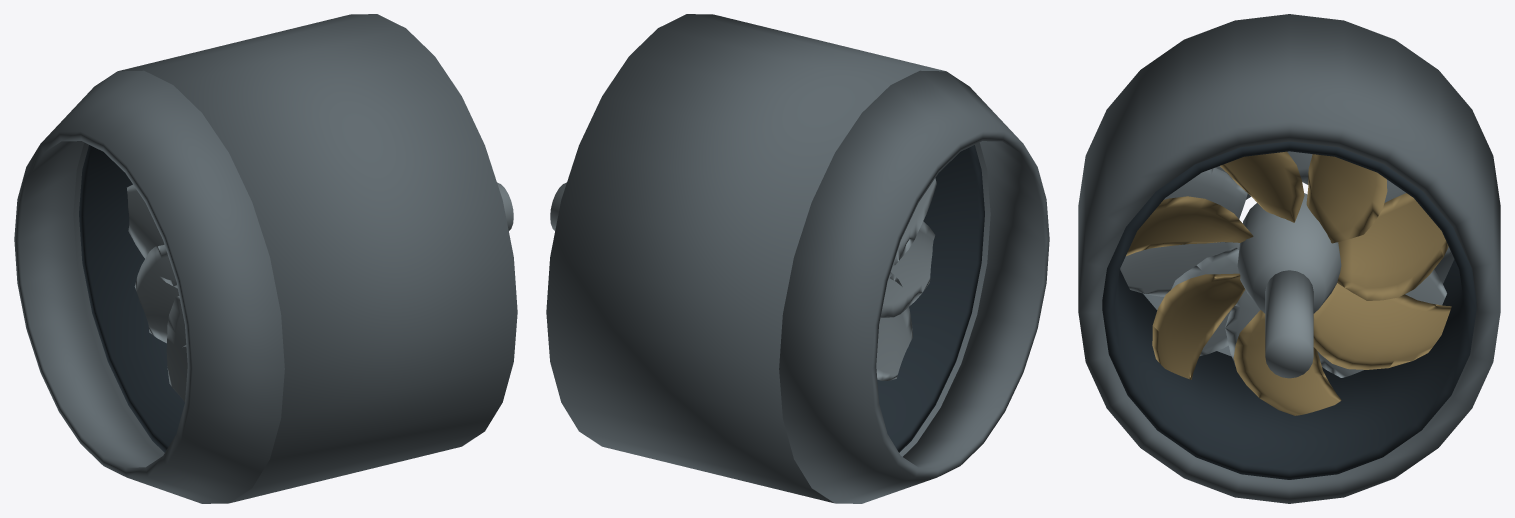
File: US_PJ_Seawolf_LOD1.fbx
The picture shows the model from 3 angles, left to right: view 1: azimuth 30°, elevation 25°; view 2: azimuth 150°, elevation 25°; view 3: azimuth 270°, elevation 25°; orthographic projection. The views are drawn at different scales.
Parts seen in each view (by area): view 1: US_PJ_Seawolf_LOD1_Housing.001, US_PJ_Seawolf_LOD1_Nozzle.001, US_PJ_Seawolf_LOD1_Lining.001, US_PJ_Seawolf_LOD1_Stator_10.001, US_PJ_Seawolf_LOD1_Stator_09.001, US_PJ_Seawolf_LOD1_Stator_00.001; view 2: US_PJ_Seawolf_LOD1_Housing.001, US_PJ_Seawolf_LOD1_Nozzle.001, US_PJ_Seawolf_LOD1_Lining.001, US_PJ_Seawolf_LOD1_Stator_06.001, US_PJ_Seawolf_LOD1_Stator_07.001, US_PJ_Seawolf_LOD1_Stator_05.001; view 3: US_PJ_Seawolf_LOD1_Housing.001, US_PJ_Seawolf_LOD1_Lining.001, US_PJ_Seawolf_LOD1_Rotor_06.001, US_PJ_Seawolf_LOD1_Rotor_00.001, US_PJ_Seawolf_LOD1_Hub.001, US_PJ_Seawolf_LOD1_Rotor_04.001, US_PJ_Seawolf_LOD1_Rotor_01.001, US_PJ_Seawolf_LOD1_Shaft.001, US_PJ_Seawolf_LOD1_Rotor_05.001, US_PJ_Seawolf_LOD1_Rotor_03.001, US_PJ_Seawolf_LOD1_Rotor_02.001, US_PJ_Seawolf_LOD1_Stator_06.001 (+5 smaller).
Boxes of the visible parts, x1=… form: US_PJ_Seawolf_LOD1_Housing.001: x1=73, y1=14, x2=517, y2=502; US_PJ_Seawolf_LOD1_Nozzle.001: x1=14, y1=70, x2=284, y2=503; US_PJ_Seawolf_LOD1_Lining.001: x1=79, y1=145, x2=184, y2=452; US_PJ_Seawolf_LOD1_Stator_10.001: x1=134, y1=245, x2=186, y2=347; US_PJ_Seawolf_LOD1_Stator_09.001: x1=166, y1=296, x2=187, y2=401; US_PJ_Seawolf_LOD1_Stator_00.001: x1=127, y1=184, x2=177, y2=288; US_PJ_Seawolf_LOD1_Housing.001: x1=546, y1=14, x2=990, y2=502; US_PJ_Seawolf_LOD1_Nozzle.001: x1=779, y1=70, x2=1049, y2=503; US_PJ_Seawolf_LOD1_Lining.001: x1=877, y1=145, x2=984, y2=452; US_PJ_Seawolf_LOD1_Stator_06.001: x1=880, y1=221, x2=935, y2=317; US_PJ_Seawolf_LOD1_Stator_07.001: x1=876, y1=272, x2=913, y2=380; US_PJ_Seawolf_LOD1_Stator_05.001: x1=892, y1=178, x2=936, y2=265; US_PJ_Seawolf_LOD1_Housing.001: x1=1078, y1=14, x2=1500, y2=503; US_PJ_Seawolf_LOD1_Lining.001: x1=1102, y1=141, x2=1476, y2=479; US_PJ_Seawolf_LOD1_Rotor_06.001: x1=1313, y1=283, x2=1451, y2=369; US_PJ_Seawolf_LOD1_Rotor_00.001: x1=1337, y1=193, x2=1448, y2=300; US_PJ_Seawolf_LOD1_Hub.001: x1=1237, y1=193, x2=1341, y2=313; US_PJ_Seawolf_LOD1_Rotor_04.001: x1=1152, y1=273, x2=1245, y2=379; US_PJ_Seawolf_LOD1_Rotor_01.001: x1=1306, y1=154, x2=1387, y2=243; US_PJ_Seawolf_LOD1_Shaft.001: x1=1265, y1=270, x2=1313, y2=378; US_PJ_Seawolf_LOD1_Rotor_05.001: x1=1233, y1=310, x2=1341, y2=415; US_PJ_Seawolf_LOD1_Rotor_03.001: x1=1126, y1=196, x2=1253, y2=256; US_PJ_Seawolf_LOD1_Rotor_02.001: x1=1220, y1=151, x2=1304, y2=222; US_PJ_Seawolf_LOD1_Stator_06.001: x1=1120, y1=242, x2=1239, y2=296.
Bounding box in the file's own units: 627 × 610 × 610.
